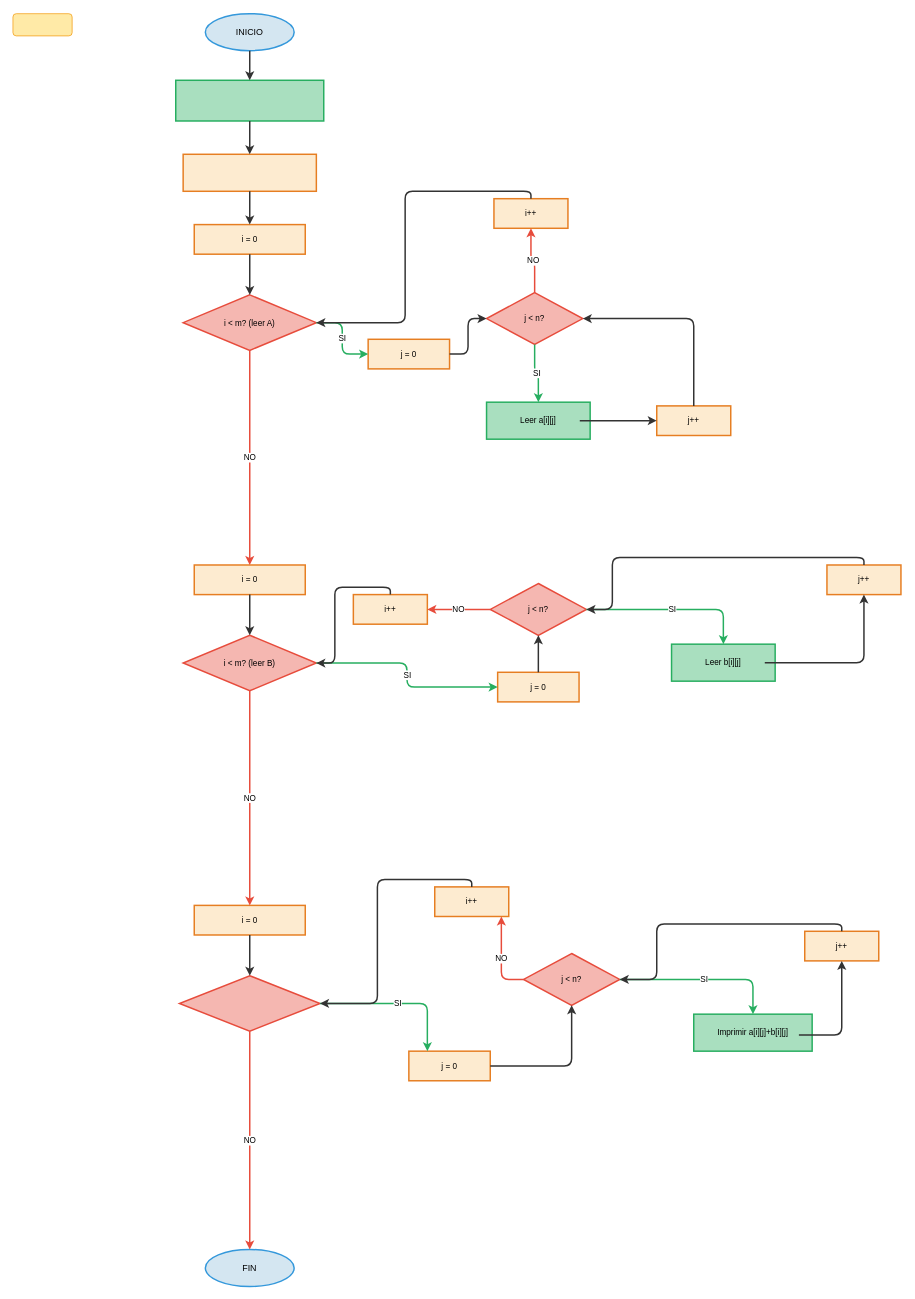
Some shapes in this 915 by 1299 pixel diagram are drawn without their labels. The centre of each missing label's shape, as x and y in pixels:
a[m][n] , b[m][n]: (249,172)
i < m? (impr. C): (249,1003)
Leer m, n: (249,100)
O(m*n): (42,24)
